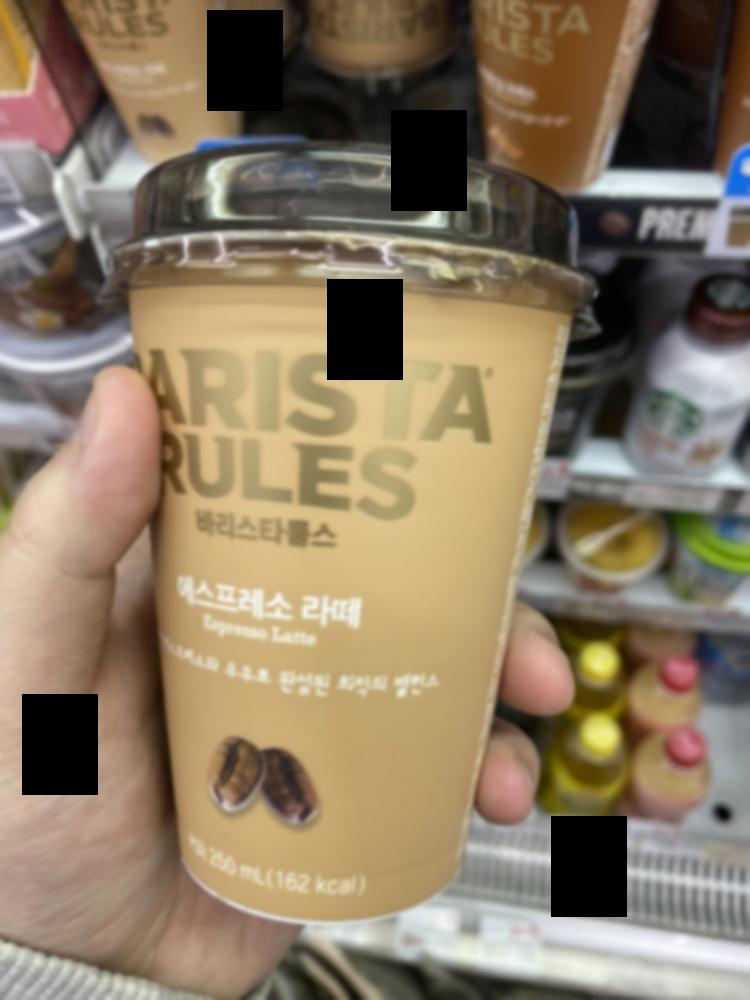baristarules_espressolatte: (86, 138, 616, 919)
